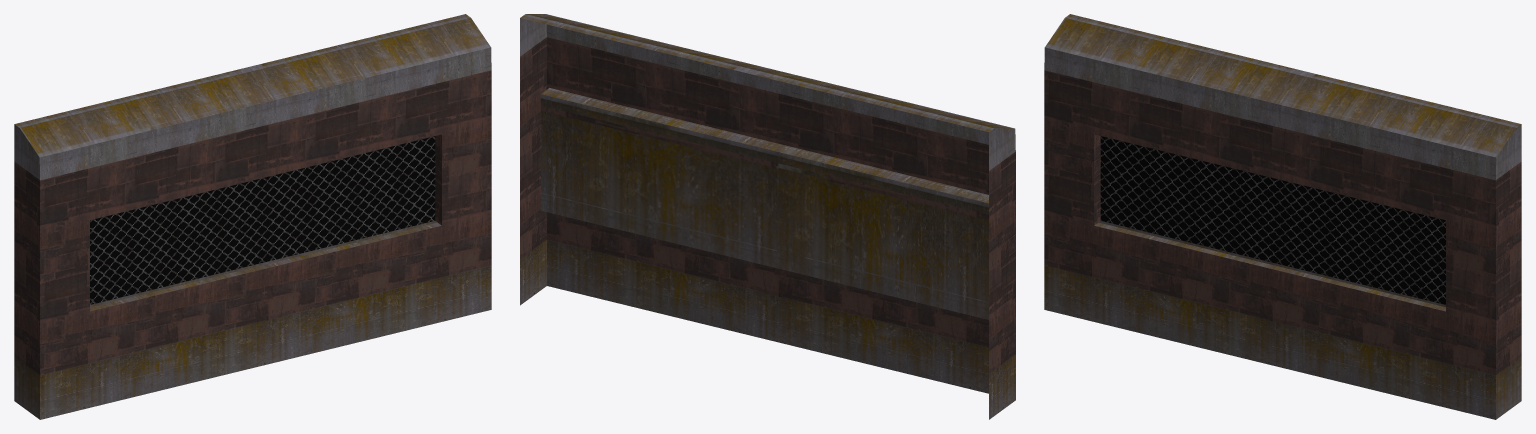
The model's file is Wall C.fbx.
The picture shows the model from 3 angles, left to right: view 1: azimuth 30°, elevation 25°; view 2: azimuth 150°, elevation 25°; view 3: azimuth 330°, elevation 25°; orthographic projection. The views are drawn at different scales.
Visible parts, largest first — view 1: Cube.012, Cube.061; view 2: Cube.012; view 3: Cube.012, Cube.061.
Part boxes in pixels (x1=…): Cube.012: x1=14, y1=14, x2=491, y2=419; Cube.061: x1=90, y1=136, x2=435, y2=304; Cube.012: x1=520, y1=14, x2=1015, y2=419; Cube.012: x1=1044, y1=14, x2=1521, y2=419; Cube.061: x1=1100, y1=136, x2=1445, y2=304.
Size of the model in its own units: 2020 by 1184 by 200.
